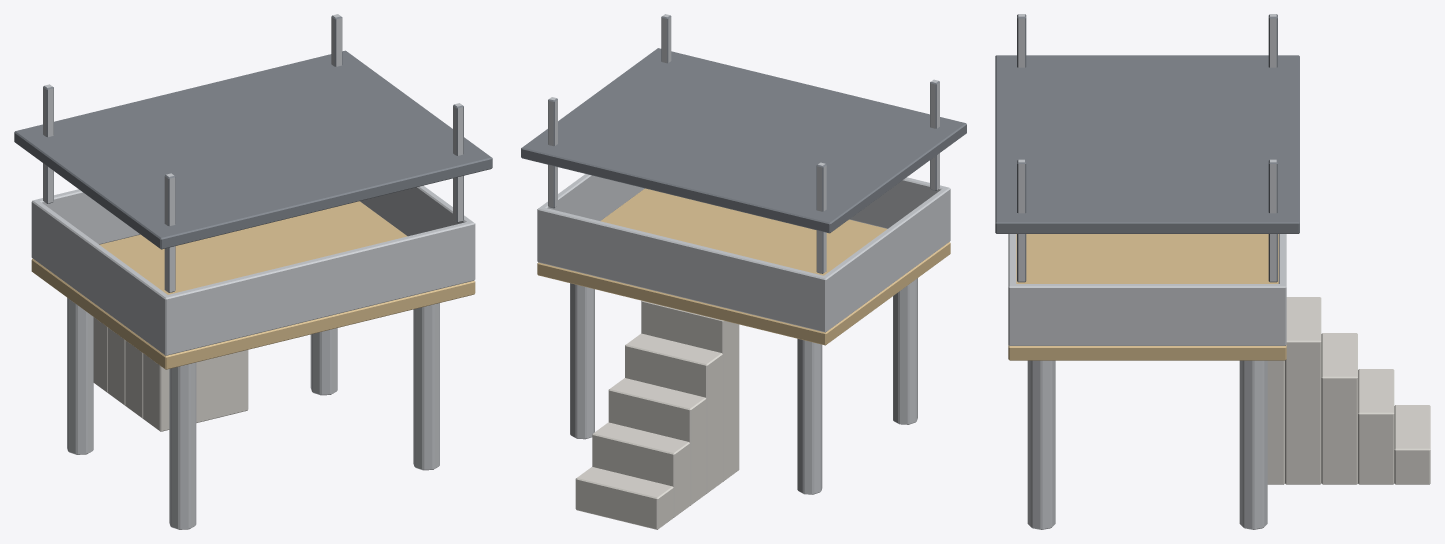
Rendered from 构筑_观景台_01.fbx.
The picture shows the model from 3 angles, left to right: view 1: azimuth 30°, elevation 25°; view 2: azimuth 150°, elevation 25°; view 3: azimuth 270°, elevation 25°; orthographic projection. The views are drawn at different scales.
Visible parts, largest first — view 1: 顶棚.003, 栏杆.001, 台面.004, 支柱.001, 台阶.002; view 2: 顶棚.003, 栏杆.001, 台阶.002, 台面.004, 支柱.001; view 3: 顶棚.003, 台阶.002, 栏杆.001, 台面.004, 支柱.001.
Part boxes in pixels (x1,y1,x2,y2): 顶棚.003: (14,14,492,292); 栏杆.001: (31,185,475,355); 台面.004: (31,201,475,369); 支柱.001: (67,297,439,529); 台阶.002: (93,317,248,431); 顶棚.003: (521,14,966,273); 栏杆.001: (537,174,950,332); 台阶.002: (575,301,739,529); 台面.004: (537,188,950,345); 支柱.001: (570,278,917,494); 顶棚.003: (995,14,1299,282); 台阶.002: (1267,297,1430,484); 栏杆.001: (1008,234,1286,345); 台面.004: (1008,234,1286,360); 支柱.001: (1027,360,1267,529).
Bounding box in the file's own units: 600 × 624 × 657.
